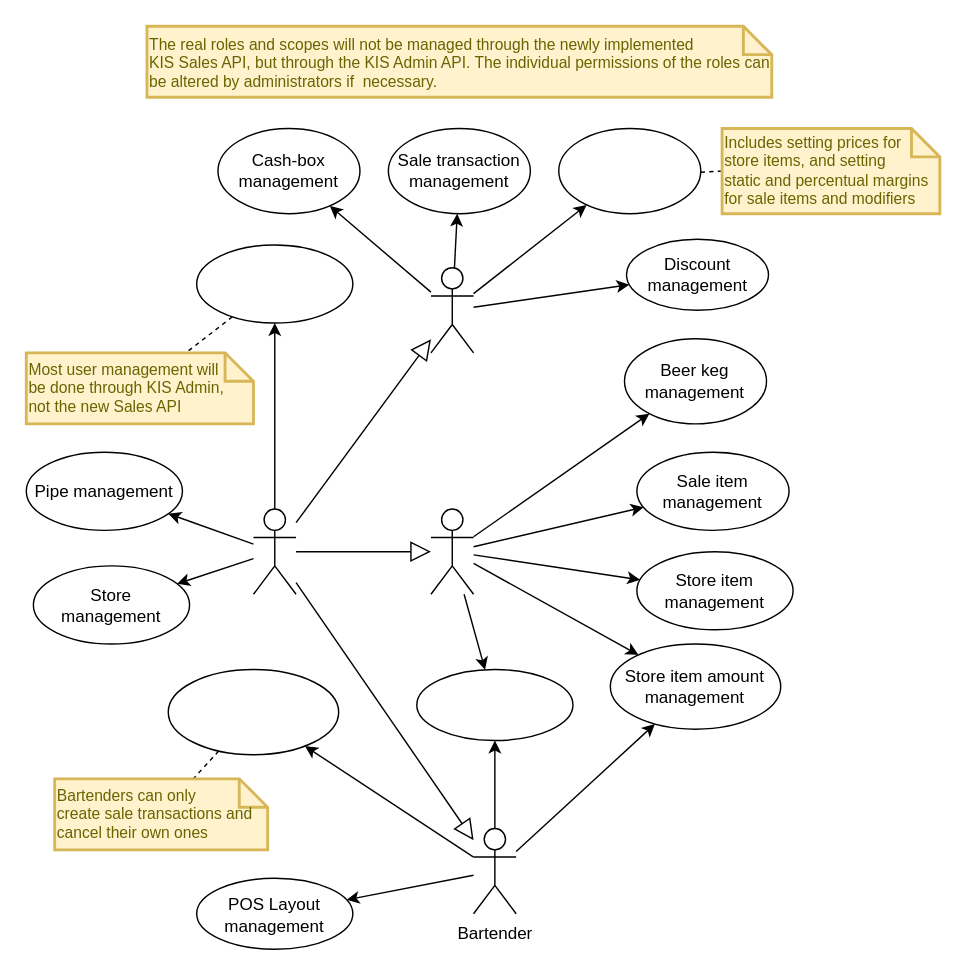
Some shapes in this 966 by 974 pixel diagram are drawn without their labels. Here are the shapes that lost their labels. From the top down, the centre of each, then its label:
point 629,170: Price management
point 274,283: User management
point 452,309: Accountant
point 274,551: Administrator
point 452,551: Storekeeper
point 253,711: Sale transaction management (limited)
point 494,704: Product category management
